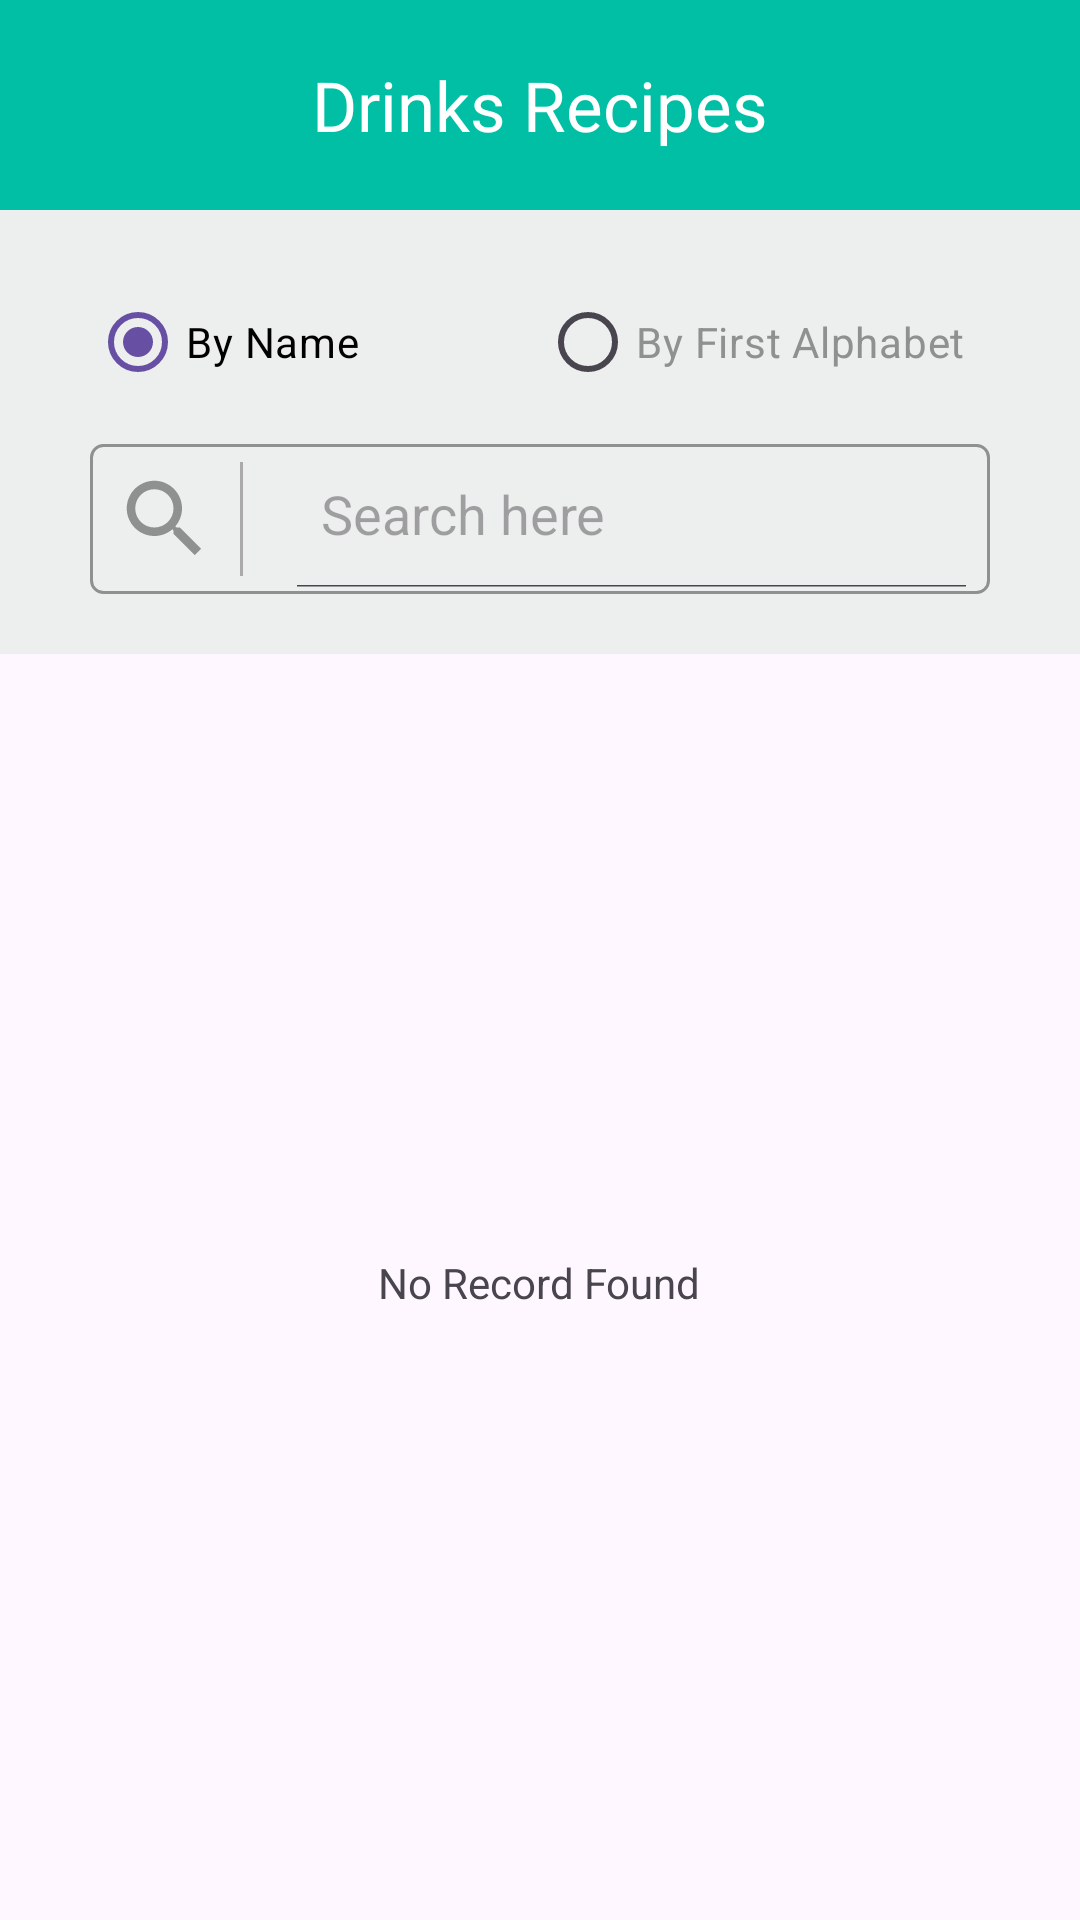

Named icons in this screenshot (1080×1920) and their centers, (x,y):
search: (164,518)
